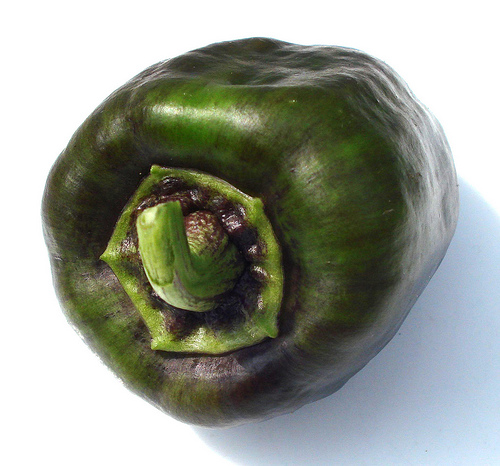capsicum: (39, 34, 459, 429)
